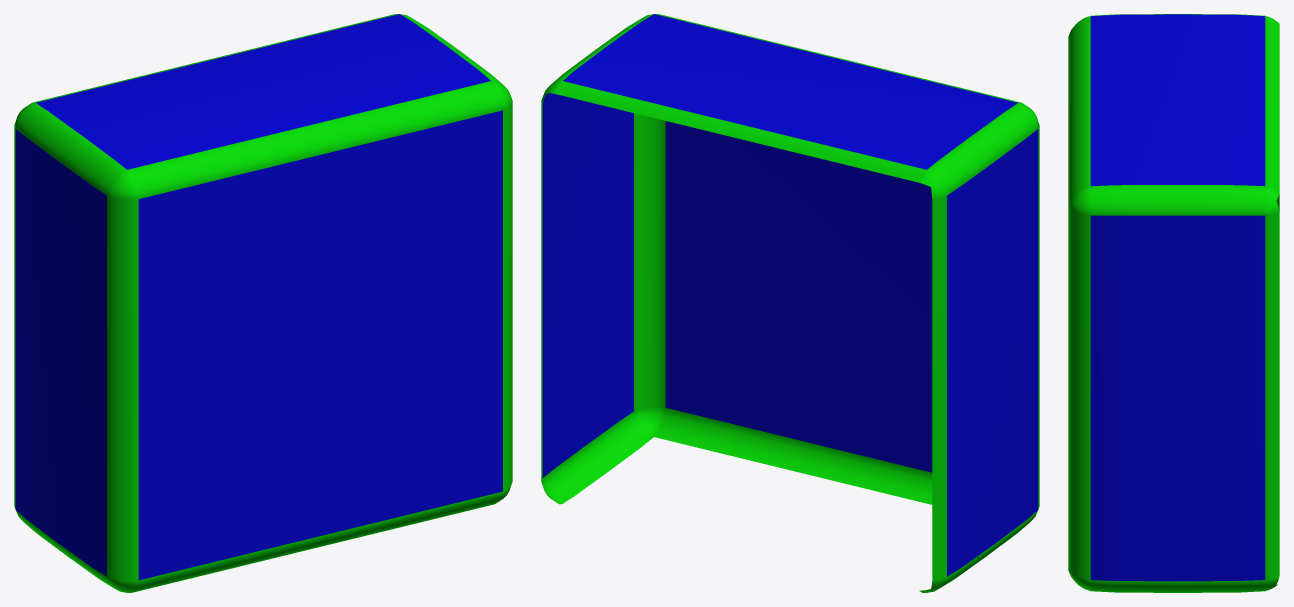
3 renders of one model, left to right at view 1: azimuth 30°, elevation 25°; view 2: azimuth 150°, elevation 25°; view 3: azimuth 270°, elevation 25°, orthographic. The views are drawn at different scales.
Parts seen in each view (by area): view 1: Cube_Blue; view 2: Cube_Blue; view 3: Cube_Blue.
Boxes of the visible parts, box(x1,y1,x2,y2) form: Cube_Blue: box(14, 14, 512, 592); Cube_Blue: box(541, 14, 1039, 592); Cube_Blue: box(1068, 14, 1279, 592).
Bounding box in the file's own units: 0.99 × 0.99 × 0.4646.
